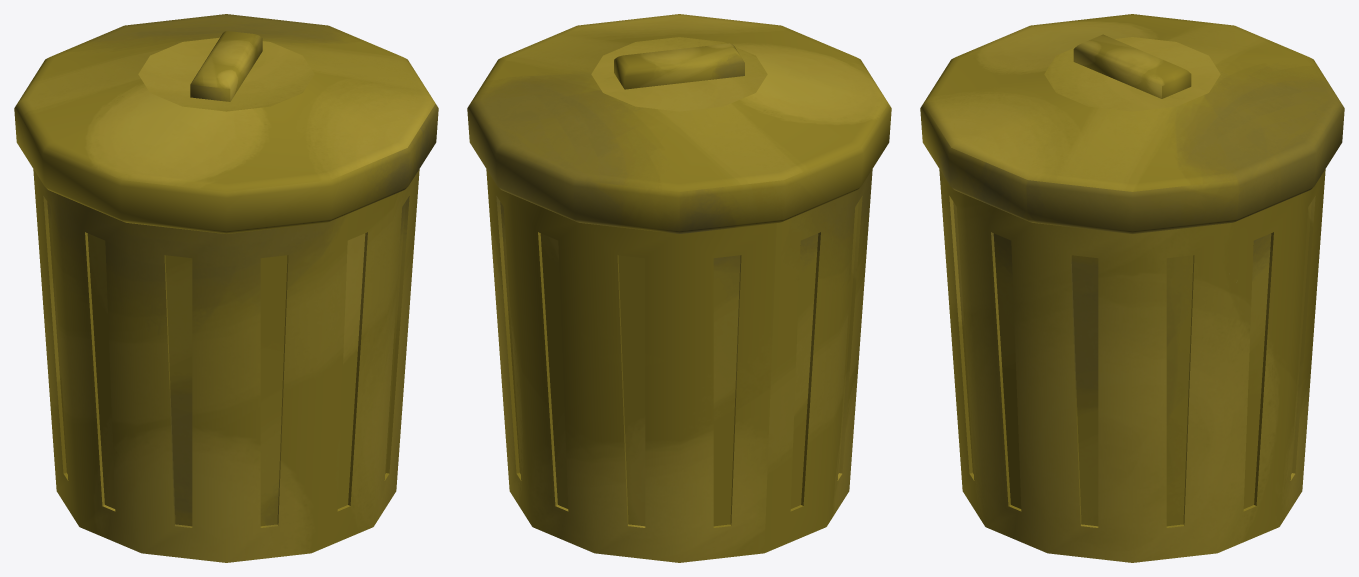
File: cuboMax.fbx
3 views of the same model, side by side, from view 1: azimuth 30°, elevation 25°; view 2: azimuth 150°, elevation 25°; view 3: azimuth 270°, elevation 25° (orthographic).
Parts seen in each view (by area): view 1: Cone002; view 2: Cone002; view 3: Cone002.
Part boxes in pixels (x1,y1,x2,y2): Cone002: [14, 14, 438, 562]; Cone002: [467, 14, 891, 562]; Cone002: [920, 14, 1344, 562].
Size of the model in its own units: 59.98 by 68 by 59.98.
Materials: 1 (1 with a texture image).
